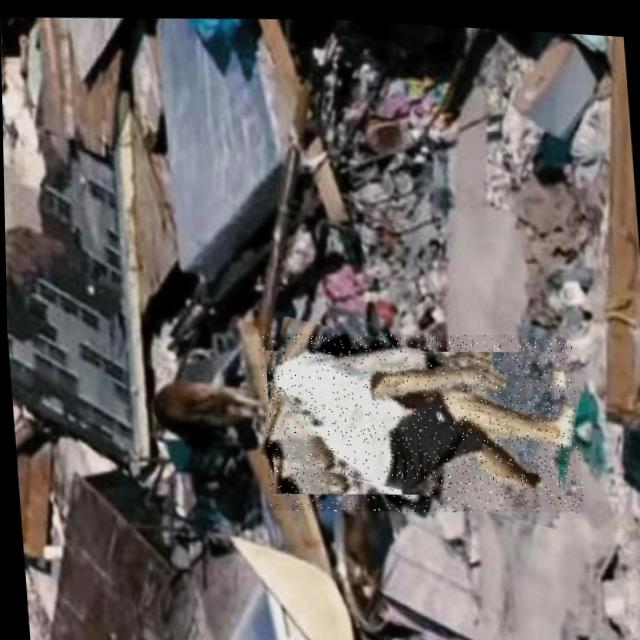Person in Rubble: (256, 313, 582, 521)
